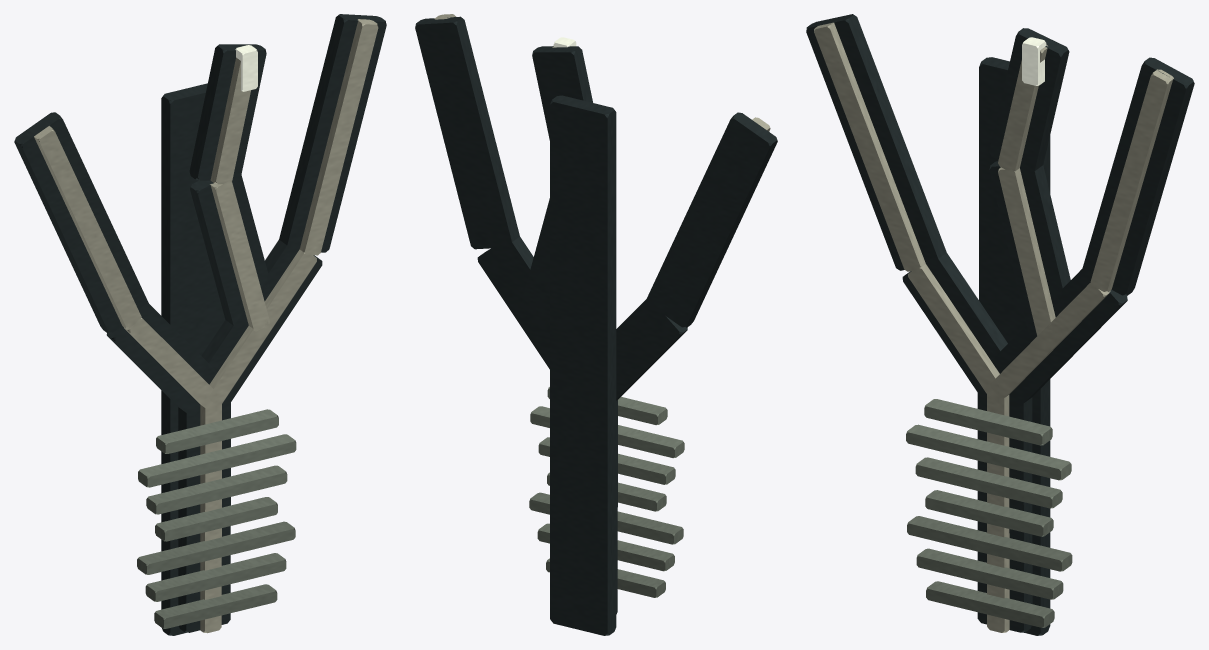
File: cataclysm_augmentation_inlay.glb
The picture shows the model from 3 angles, left to right: view 1: azimuth 30°, elevation 25°; view 2: azimuth 150°, elevation 25°; view 3: azimuth 330°, elevation 25°; orthographic projection. The views are drawn at different scales.
Parts seen in each view (by area): view 1: cataclysm_augmentation_inlay; view 2: cataclysm_augmentation_inlay; view 3: cataclysm_augmentation_inlay.
Part boxes in pixels (x1,y1,x2,y2): cataclysm_augmentation_inlay: (14,14,386,635); cataclysm_augmentation_inlay: (415,14,777,635); cataclysm_augmentation_inlay: (806,14,1194,635).
Bounding box in the file's own units: 0.7445 × 1.13 × 0.1165.
Materials: 2 (2 with a texture image).
